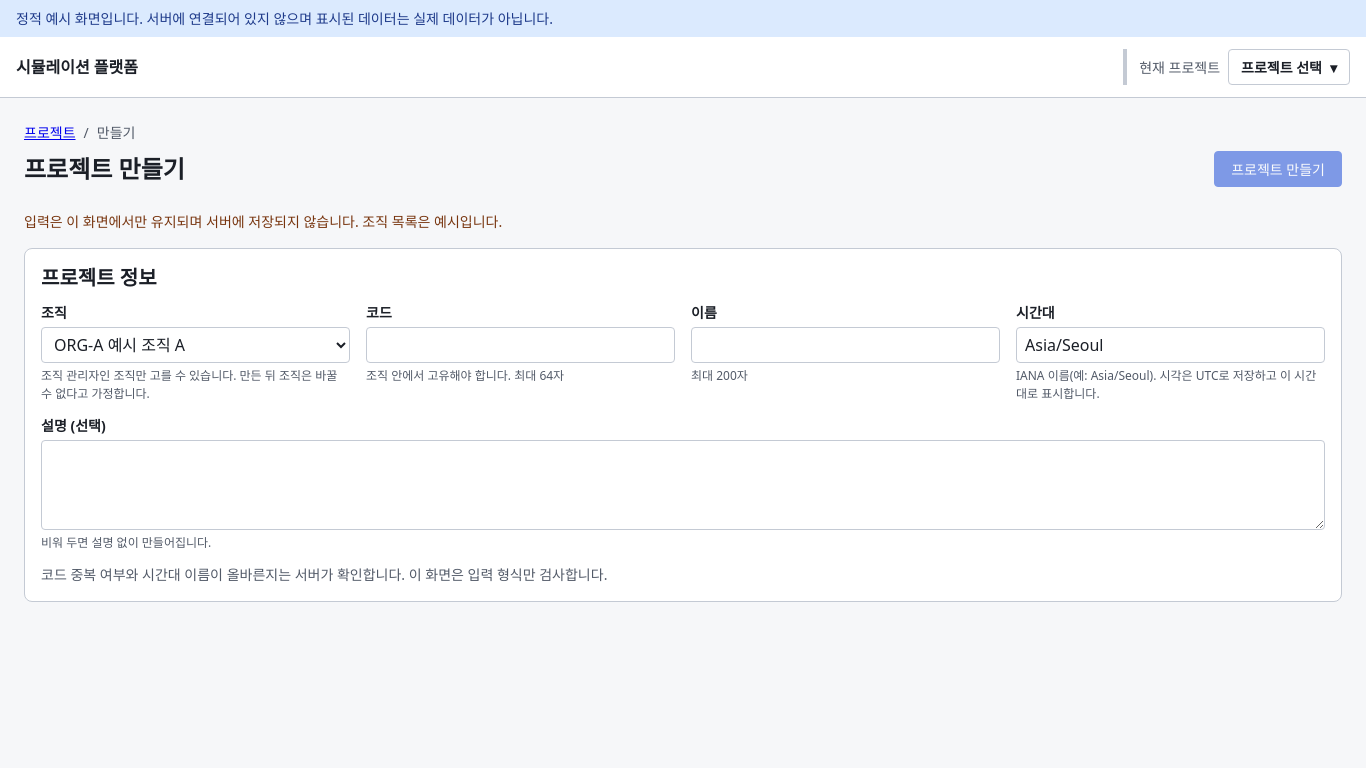
it: 프로젝트 만들기 › 알 수 없는 시간대를 입력하면 IANA 이름 안내가 나온다
The image size is (1366, 768).
Clear the field labelled "시간대" at {"x": 1170, "y": 345}, box [1016,327,1325,363]
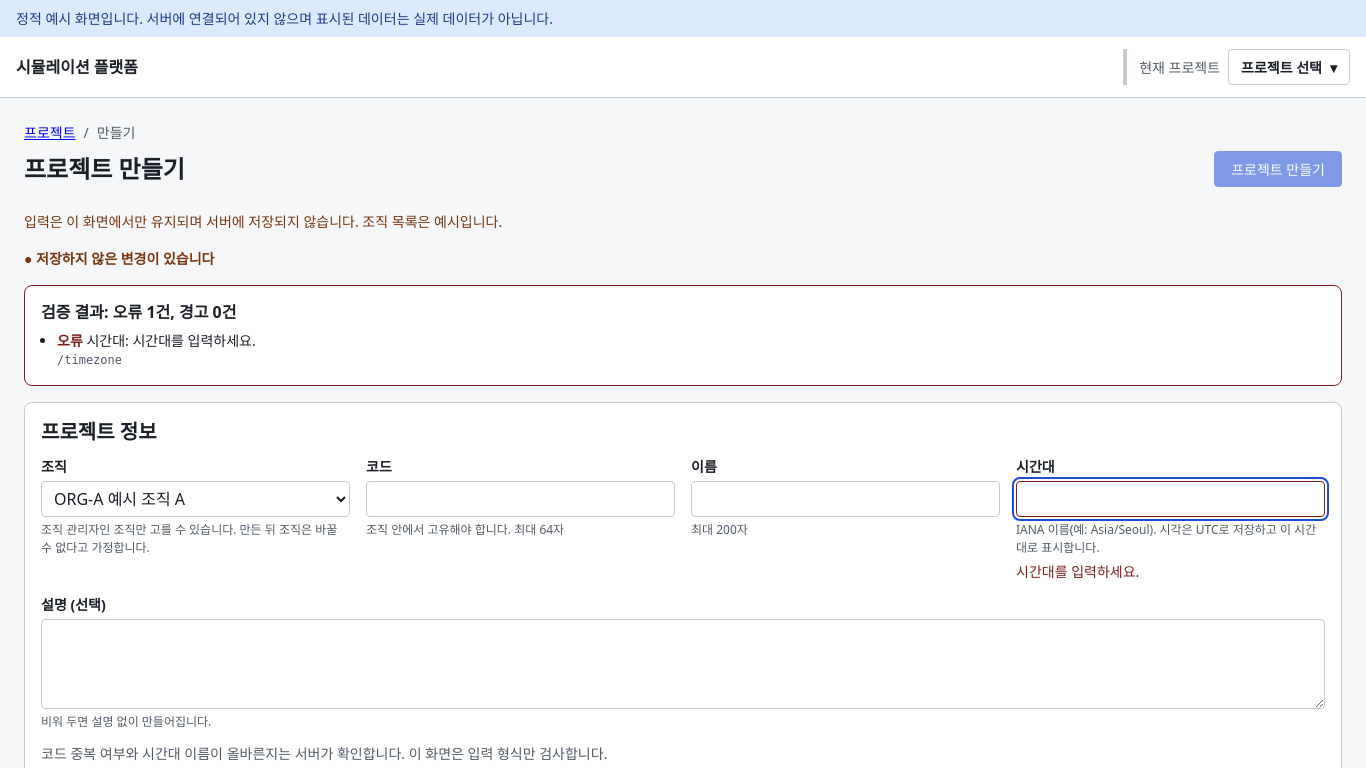
Type "Seoul" into the field labelled "시간대" at {"x": 1170, "y": 499}, box [1016,481,1325,517]
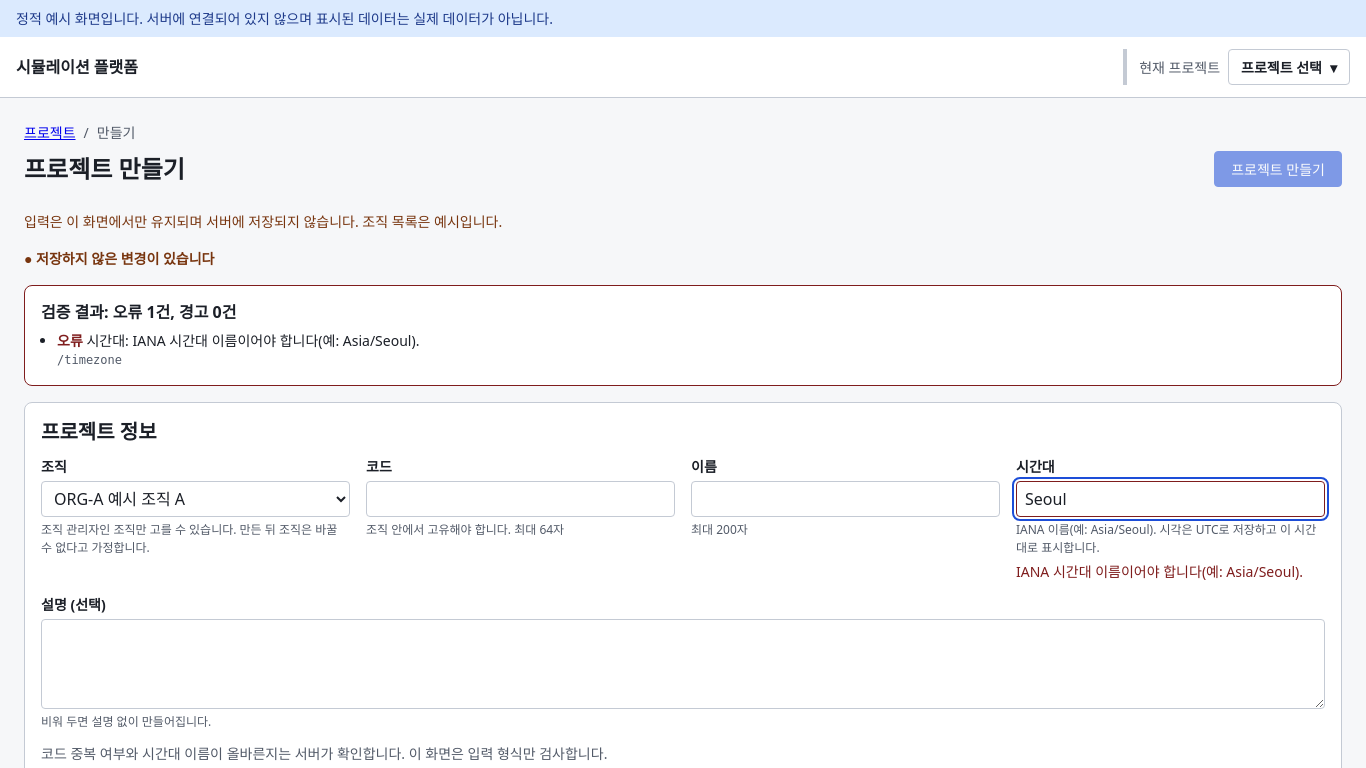
Expected: the message "검증 결과" shows "IANA", [86,331,419,350]
